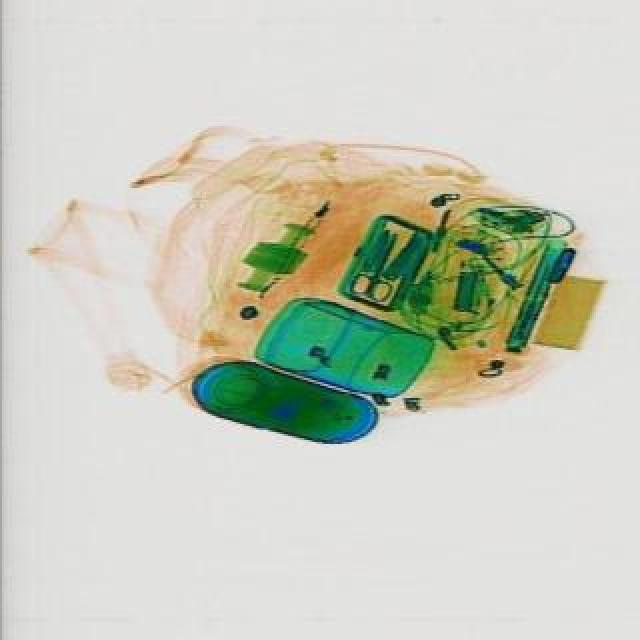pliers: (344, 228, 408, 302)
